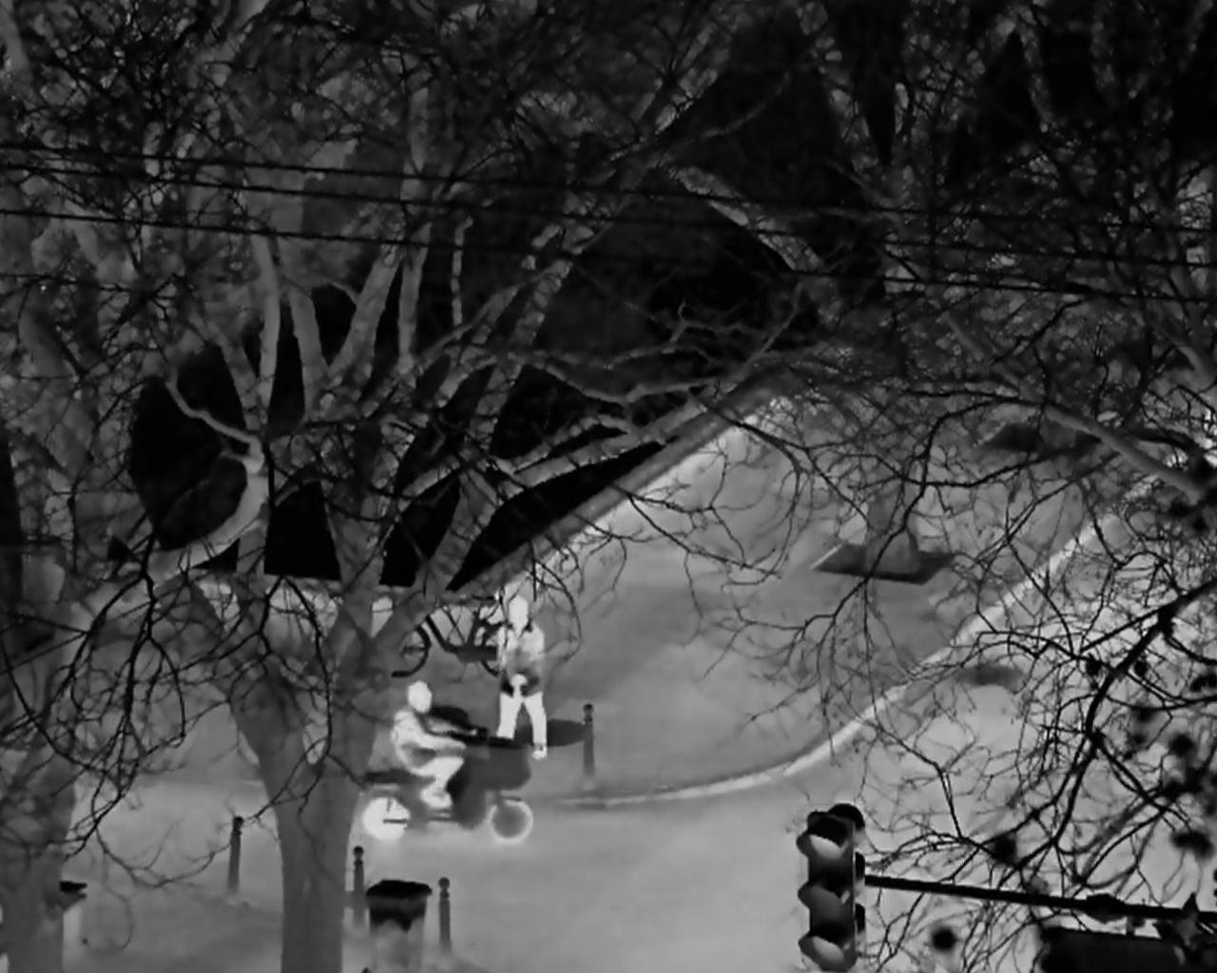person: (390, 680, 466, 814), (493, 596, 547, 760)
